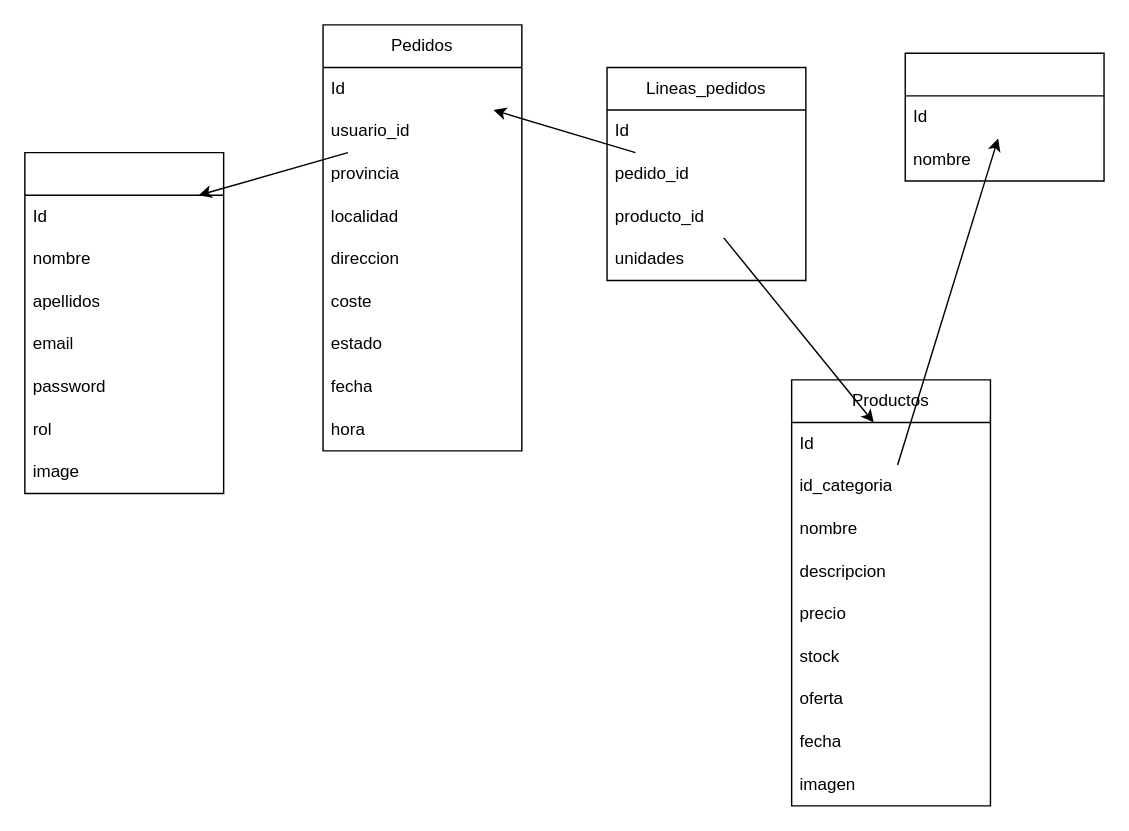
The diagram is 1129 pixels wide and 831 high, and some of its shapes have lost their labels. The box of each missing label's shape, as (x1, y1, x2, y2) in pixels:
Categorias: (904, 52, 1104, 181)
Usuarios: (23, 151, 224, 493)
